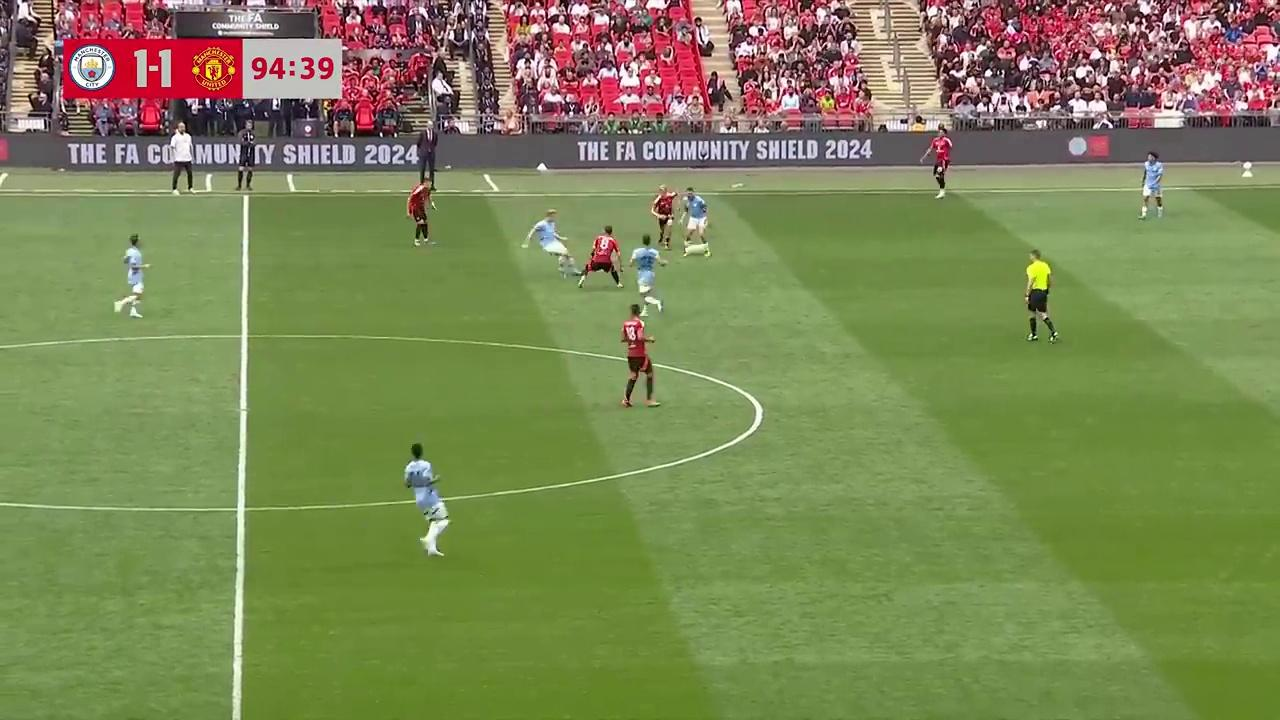player: (402, 441, 450, 557), (619, 304, 659, 409), (574, 225, 624, 289), (114, 234, 150, 318), (628, 234, 665, 315), (522, 209, 569, 270), (679, 188, 711, 257), (649, 185, 680, 250), (406, 179, 434, 246), (930, 126, 954, 194), (1139, 158, 1164, 219)
referee: (1023, 251, 1059, 343)
